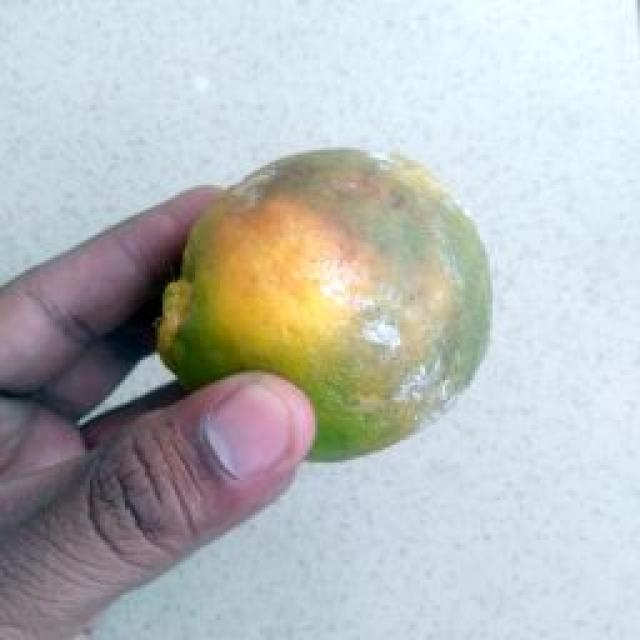Bad_Orange: (159, 149, 490, 459)
